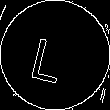L_N: (34, 27, 76, 83)
